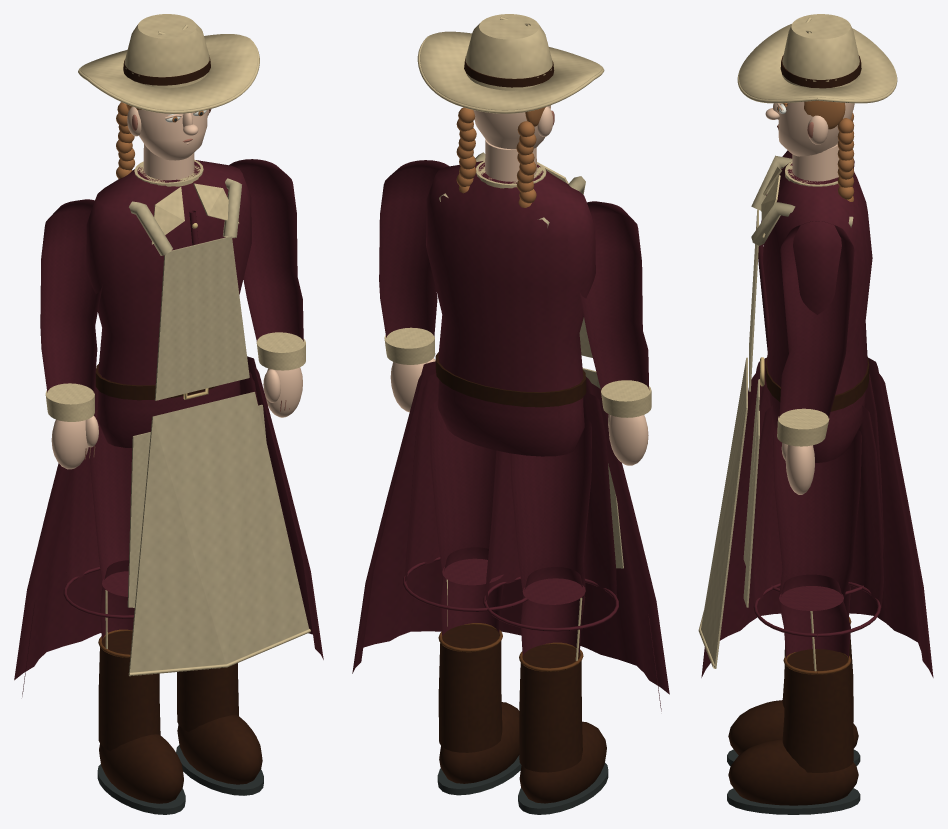
The model's file is Homesteader.fbx.
3 renders of one model, left to right at view 1: azimuth 30°, elevation 25°; view 2: azimuth 150°, elevation 25°; view 3: azimuth 270°, elevation 25°, orthographic. The views are drawn at different scales.
Visible parts, largest first — view 1: StandingSkirtMesh, TorsoMesh, HeadMesh, ArmLMesh, KneeLMesh, ArmRMesh, KneeRMesh, RidingSkirtLMesh, LegLMesh, HipsMesh; view 2: TorsoMesh, StandingSkirtMesh, HeadMesh, KneeLMesh, KneeRMesh, ArmLMesh, ArmRMesh, LegLMesh, HipsMesh, RidingSkirtLMesh, LegRMesh, RidingSkirtRMesh; view 3: KneeRMesh, StandingSkirtMesh, HeadMesh, TorsoMesh, ArmRMesh, LegRMesh, RidingSkirtRMesh, HipsMesh, KneeLMesh, RidingSkirtLMesh.
Boxes of the visible parts, <box> form: StandingSkirtMesh: <box>14,356,323,696</box>; TorsoMesh: <box>86,159,251,400</box>; HeadMesh: <box>78,14,259,180</box>; ArmLMesh: <box>40,199,102,469</box>; KneeLMesh: <box>97,560,185,814</box>; ArmRMesh: <box>229,159,305,417</box>; KneeRMesh: <box>176,663,263,795</box>; RidingSkirtLMesh: <box>63,384,150,618</box>; LegLMesh: <box>90,410,132,596</box>; HipsMesh: <box>95,364,240,447</box>; TorsoMesh: <box>426,152,595,407</box>; StandingSkirtMesh: <box>352,361,669,711</box>; HeadMesh: <box>417,14,604,207</box>; KneeLMesh: <box>518,567,608,814</box>; KneeRMesh: <box>437,547,521,795</box>; ArmLMesh: <box>578,201,651,465</box>; ArmRMesh: <box>379,160,448,412</box>; LegLMesh: <box>510,417,591,604</box>; HipsMesh: <box>435,352,586,456</box>; RidingSkirtLMesh: <box>483,391,623,631</box>; LegRMesh: <box>430,401,503,585</box>; RidingSkirtRMesh: <box>403,373,528,611</box>; KneeRMesh: <box>727,574,860,814</box>; StandingSkirtMesh: <box>698,357,933,677</box>; HeadMesh: <box>737,14,897,201</box>; TorsoMesh: <box>749,155,872,409</box>; ArmRMesh: <box>777,221,854,494</box>; LegRMesh: <box>773,430,861,610</box>; RidingSkirtRMesh: <box>743,405,883,637</box>; HipsMesh: <box>760,356,869,462</box>; KneeLMesh: <box>727,585,860,765</box>; RidingSkirtLMesh: <box>743,374,883,595</box>.
Bounding box in the file's own units: 74.3 × 184 × 51.16.
Materials: 11 (5 with a texture image).
